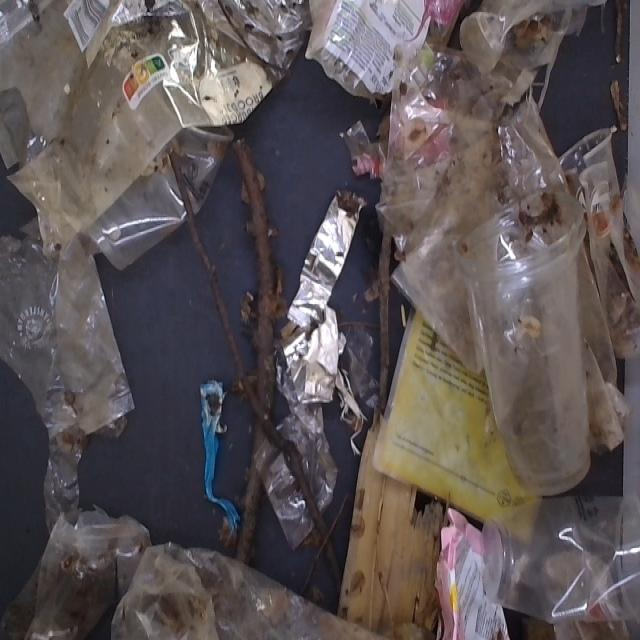food_wrapping: (385, 290, 572, 542), (296, 0, 476, 105), (430, 505, 523, 640)
plastic_cups: (446, 220, 630, 489), (0, 233, 154, 454), (476, 464, 640, 640), (538, 121, 640, 317), (470, 0, 615, 115)
plastic_films: (0, 0, 299, 260), (371, 49, 581, 370), (26, 456, 387, 640), (271, 163, 371, 544)
